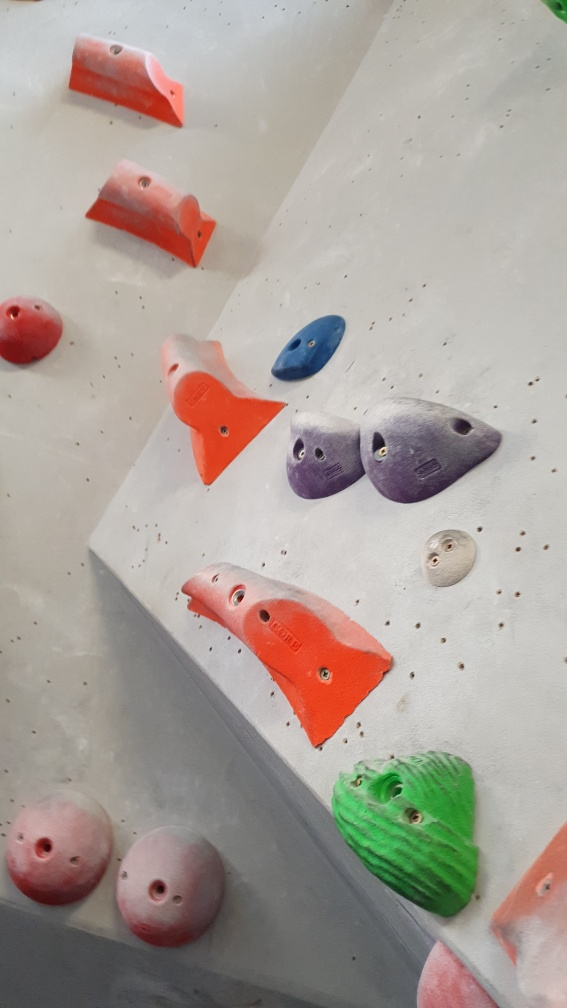Crimp: (268, 314, 350, 388)
Jug: (331, 749, 485, 931), (356, 393, 506, 505), (284, 407, 374, 502)
Pinch: (176, 555, 395, 747), (156, 328, 291, 489), (84, 157, 222, 277), (62, 26, 189, 132)
Sloper: (114, 824, 230, 949), (9, 784, 116, 910), (1, 291, 70, 372)
